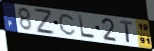2: (101, 17, 119, 43)
8: (17, 7, 34, 32)
C: (57, 12, 77, 36)
L: (77, 14, 97, 40)
T: (119, 20, 135, 44)
Z: (33, 7, 56, 36)
